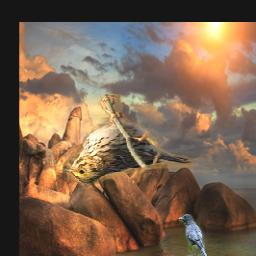Crow: (179, 215, 208, 256)
Sparrow: (62, 94, 193, 186)
